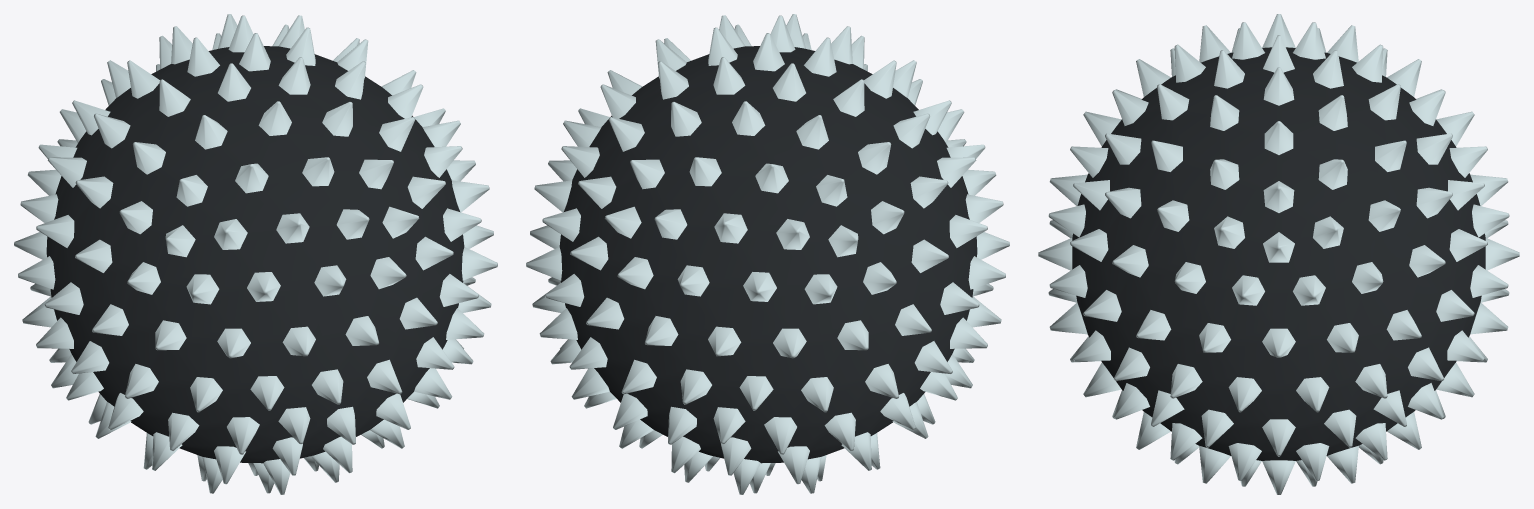
Rendered from spiked-ball.glb.
3 views of the same model, side by side, from view 1: azimuth 30°, elevation 25°; view 2: azimuth 150°, elevation 25°; view 3: azimuth 270°, elevation 25° (orthographic).
Parts seen in each view (by area): view 1: Icosphere; view 2: Icosphere; view 3: Icosphere.
Part boxes in pixels (bbox=[...]): Icosphere: bbox=[14, 14, 497, 494]; Icosphere: bbox=[526, 14, 1009, 494]; Icosphere: bbox=[1038, 14, 1519, 494].
Bounding box in the file's own units: 0.5747 × 0.5759 × 0.5748.
